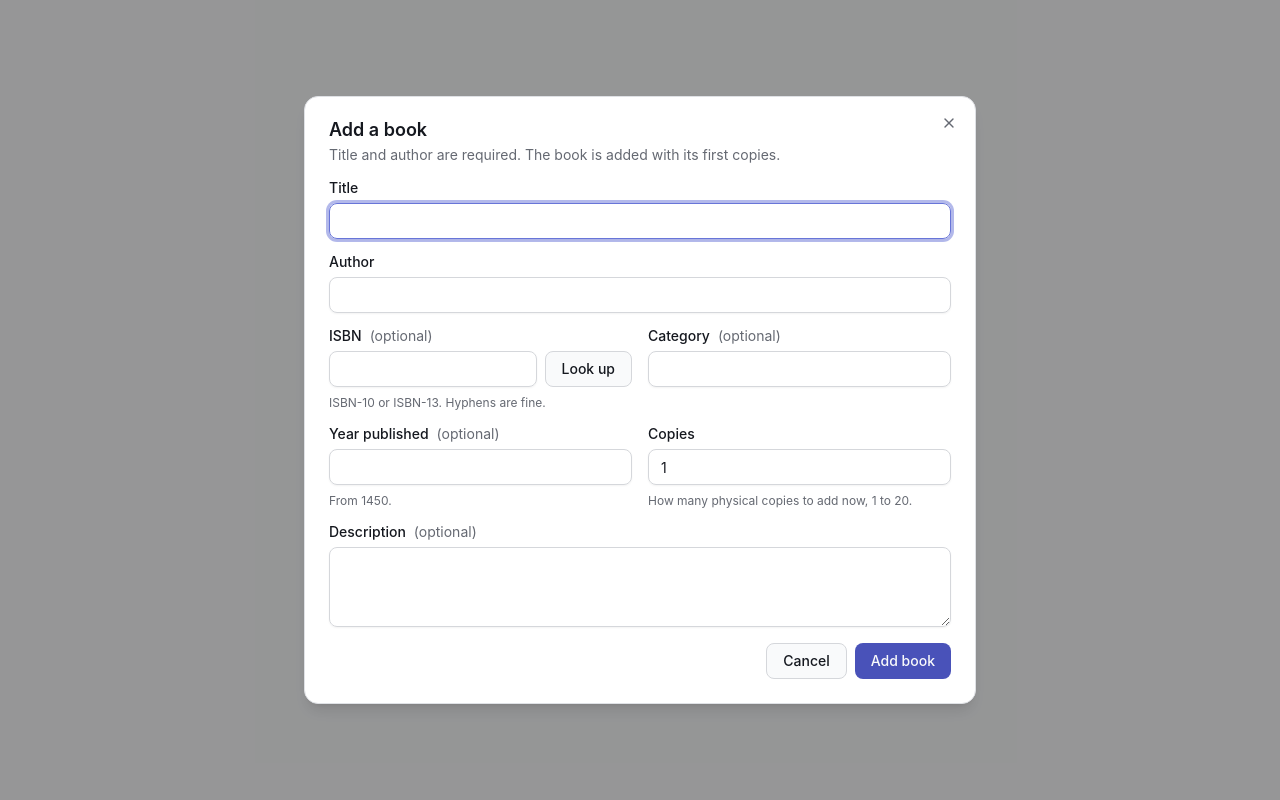
Test: BookFormDialog › shows the client rules inline and sends nothing
Click the button "Add book" at (903, 661), box [855,643,951,679]
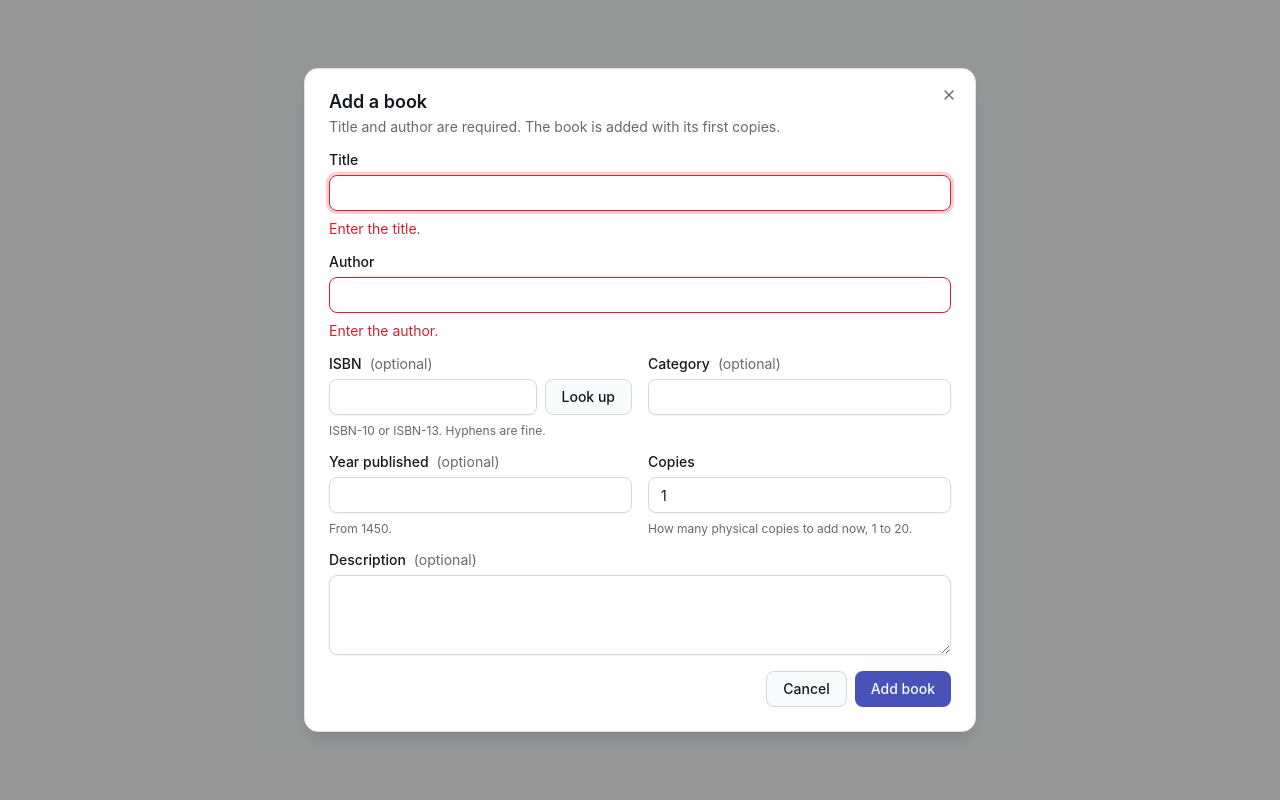
Check: the text "Enter the title." is shown, box [329,220,421,237]
Check: the text "Enter the author." is shown, box [329,322,438,339]
Type "12345" into the field labelled "ISBN (optional)" at (433, 397), box [329,379,536,415]
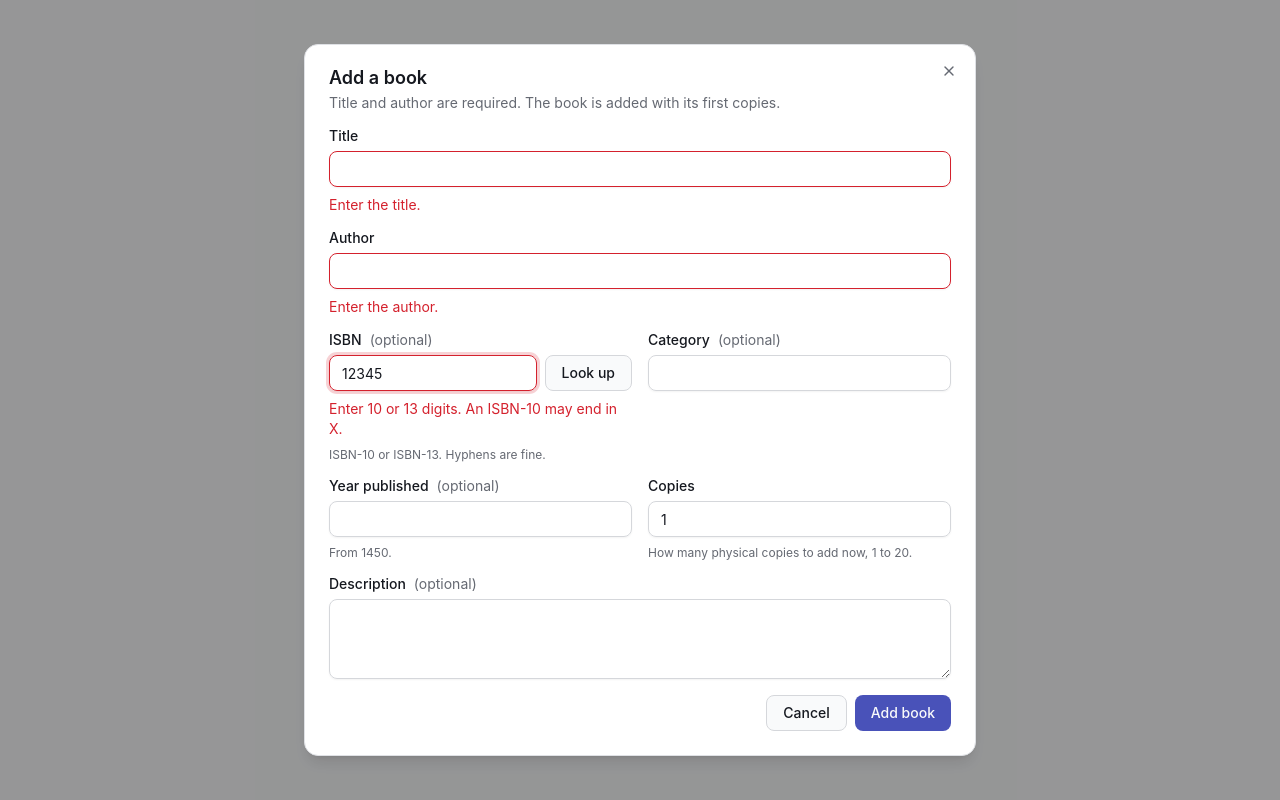
Type "1200" into the field labelled "Year published (optional)" at (480, 519), box [329,501,632,537]
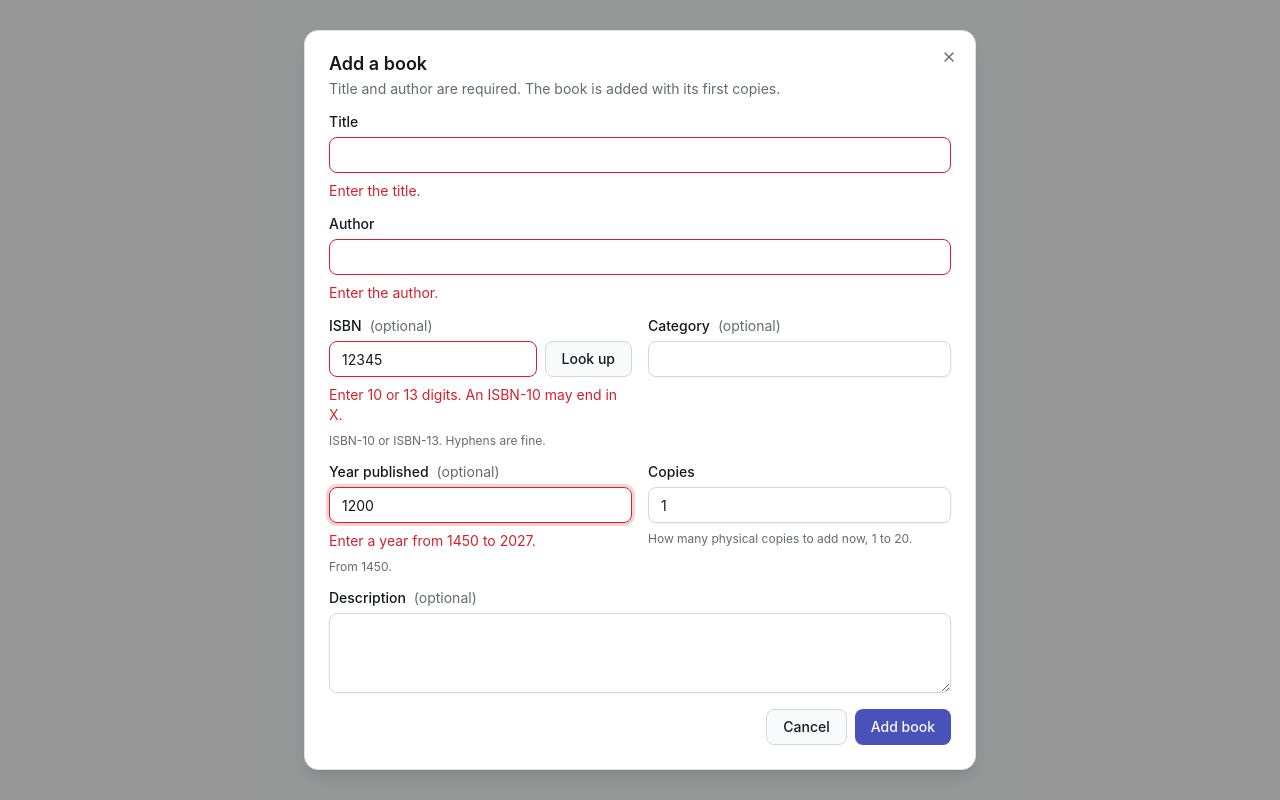
Click the button "Add book" at (903, 727), box [855,709,951,745]
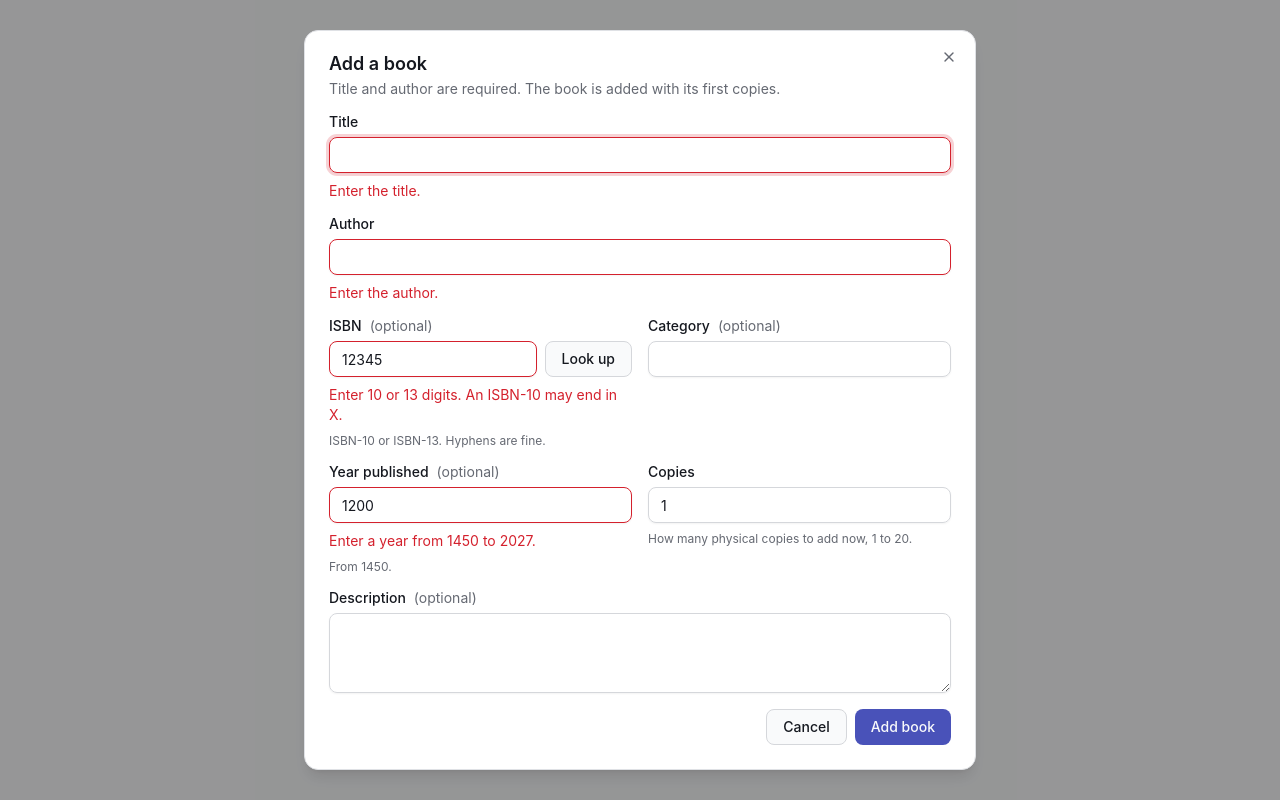
Check: the text "Enter 10 or 13 digits. An ISBN-10 may end in X." is shown, box [329,385,632,425]
Check: the text "Enter a year from 1450 to 2027." is shown, box [329,532,536,549]
Note: Right shape, wrong check digit (the real one ends in 9).
Clear the field labelled "ISBN (optional)" at (433, 359), box [329,341,536,377]
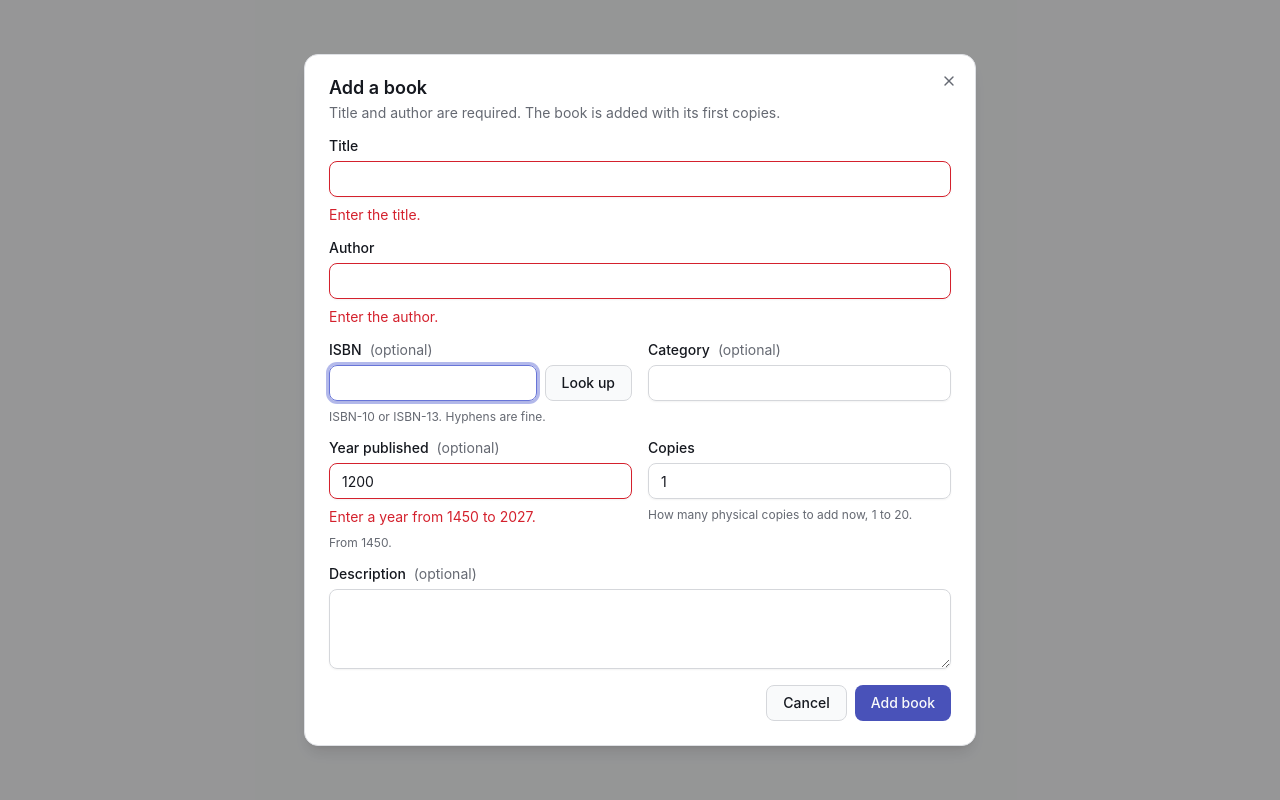
Type "978-0-441-17271-8" into the field labelled "ISBN (optional)" at (433, 383), box [329,365,536,401]
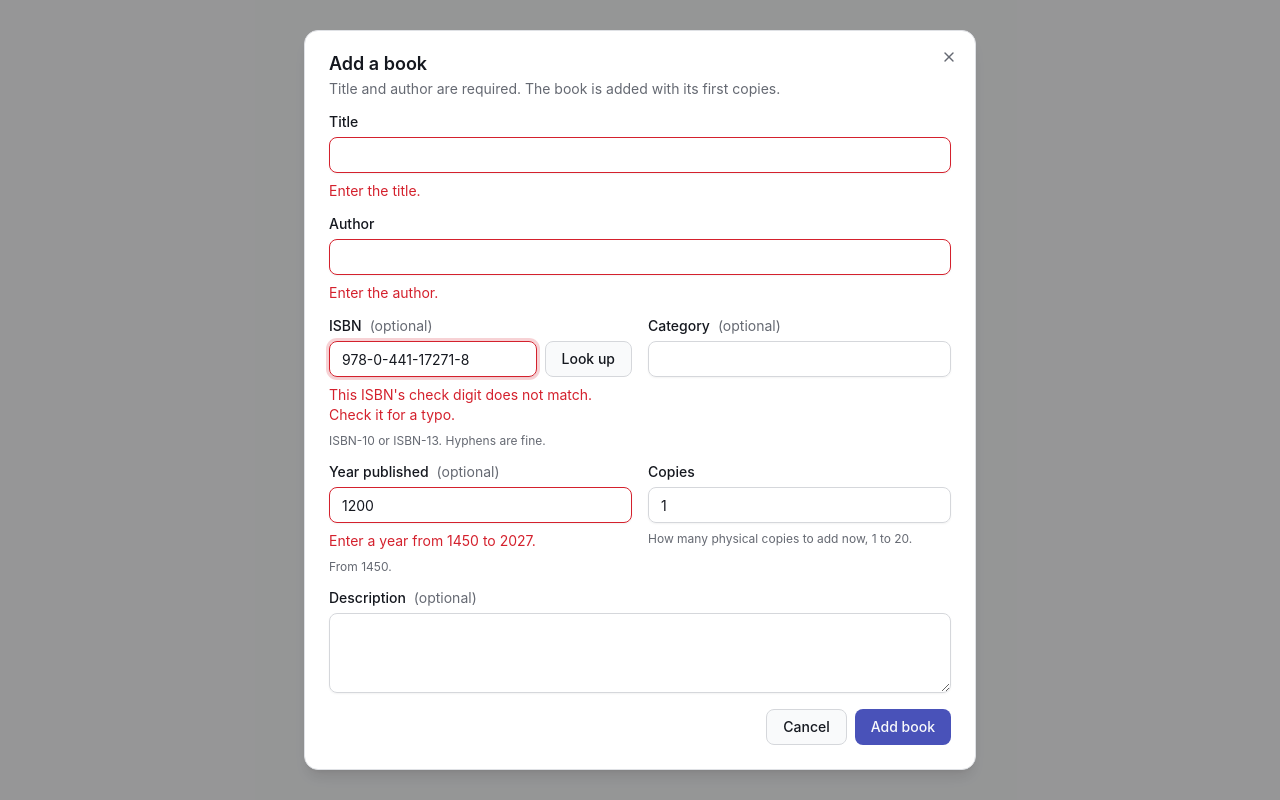
Check: the text "This ISBN's check digit does not match. Check it for a typo." is shown, box [329,385,632,425]
